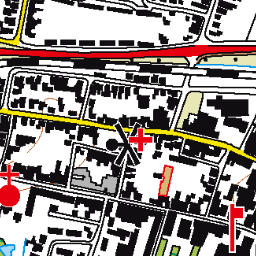church: (1, 163, 31, 209)
